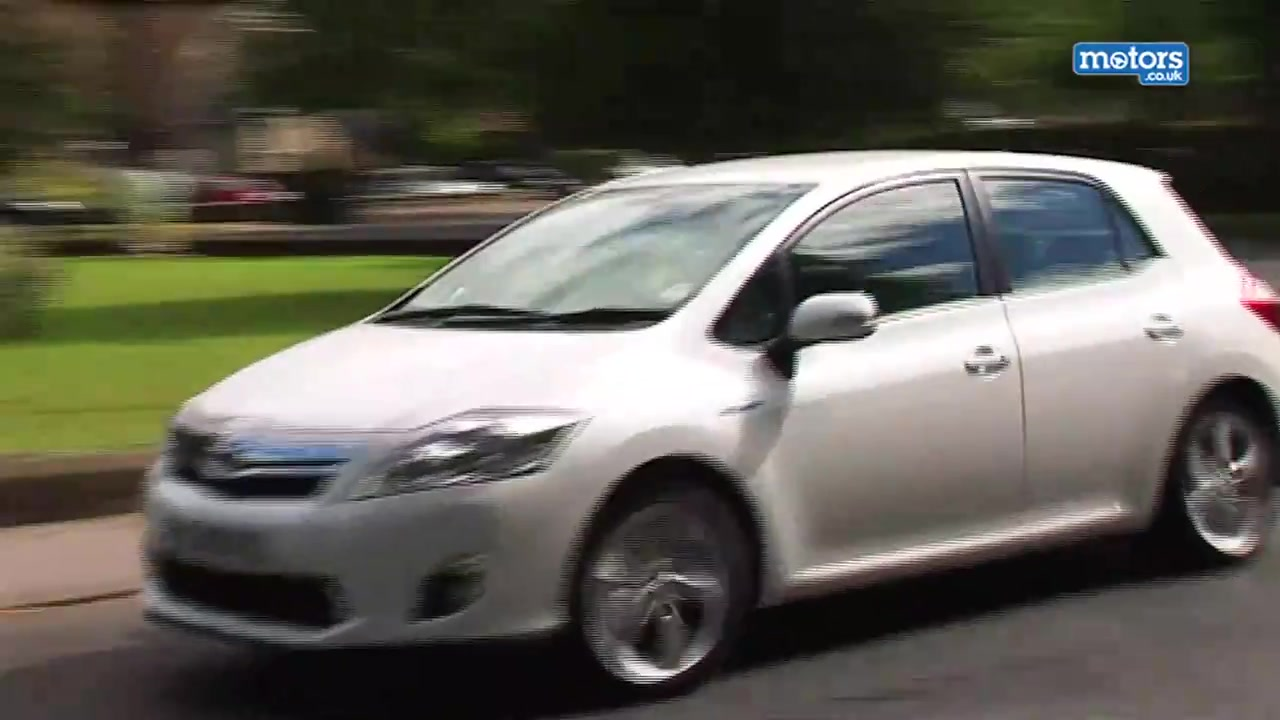car: (143, 144, 1280, 701)
